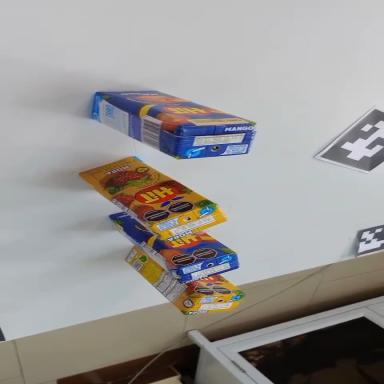HIT-MANGO: (83, 73, 259, 179), (99, 210, 243, 295)
HIT-MORA: (72, 137, 231, 262), (115, 244, 248, 331)
cara_F: (74, 137, 214, 248), (106, 183, 236, 290), (95, 72, 256, 148), (188, 273, 246, 297)
